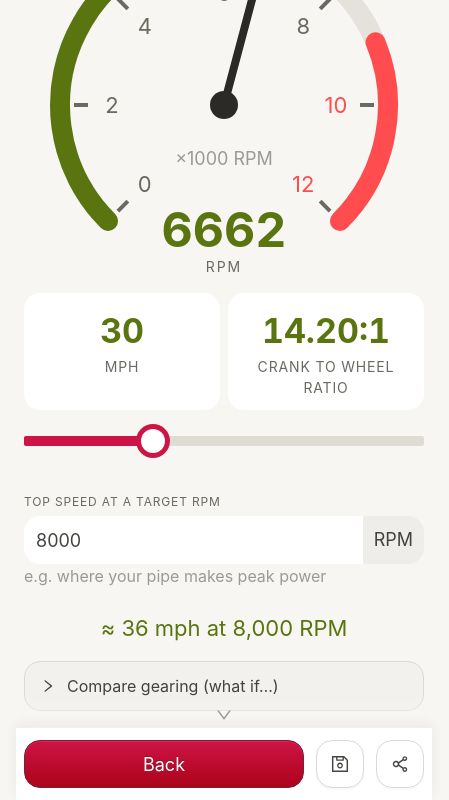
Test: Top speed at a target RPM › updates as you type a new target and keeps it in the link
(page scrolled)
Replace the text in the number field labelled "Top speed at a target RPM" with "9500" at (193, 540), box [25,517,362,563]
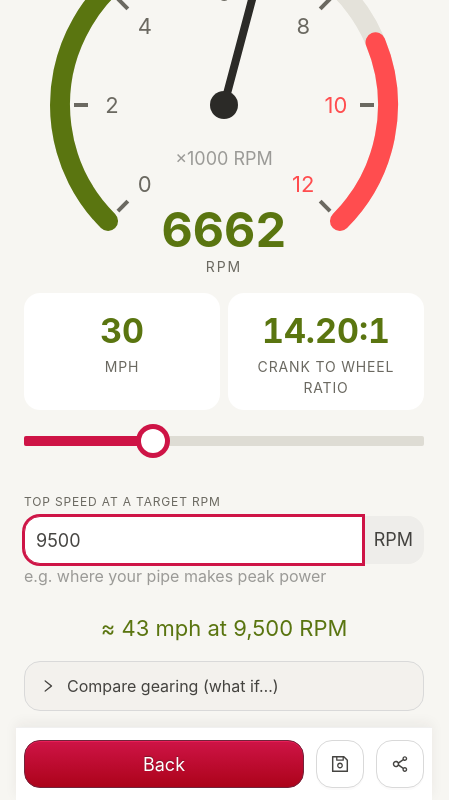
Check: the text "≈ 43 mph at 9,500 RPM" is shown, box [101,615,347,641]
